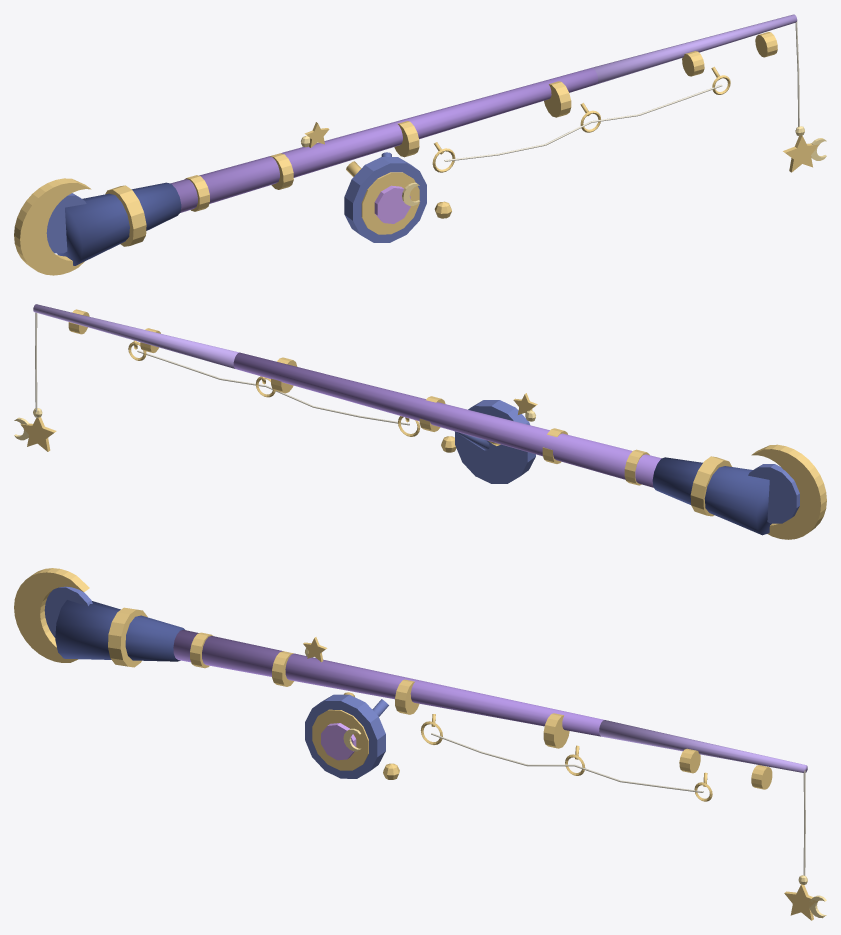
3 renders of one model, top to bottom at view 1: azimuth 30°, elevation 25°; view 2: azimuth 150°, elevation 25°; view 3: azimuth 330°, elevation 25°, orthographic. The views are drawn at different scales.
Visible parts, largest first — view 1: wizard_rod_clean_violet_body, wizard_rod_midnight_flared_handle, wizard_rod_elegant_gold_crescent_base, wizard_rod_reel_outer_midnight_shell, wizard_rod_soft_lavender_tip, wizard_rod_reel_gold_ring, wizard_rod_gold_rear_collar, wizard_rod_midnight_moon_back_disk, wizard_rod_reel_violet_gem_button, wizard_rod_clean_sagging_line, wizard_rod_thin_gold_wrap_4, wizard_rod_dangling_gold_star_charm (+2 smaller); view 2: wizard_rod_clean_violet_body, wizard_rod_midnight_flared_handle, wizard_rod_reel_outer_midnight_shell, wizard_rod_elegant_gold_crescent_base, wizard_rod_soft_lavender_tip, wizard_rod_midnight_moon_back_disk, wizard_rod_gold_rear_collar, wizard_rod_clean_sagging_line, wizard_rod_dangling_gold_star_charm; view 3: wizard_rod_clean_violet_body, wizard_rod_midnight_flared_handle, wizard_rod_elegant_gold_crescent_base, wizard_rod_soft_lavender_tip, wizard_rod_reel_outer_midnight_shell, wizard_rod_reel_gold_ring, wizard_rod_gold_rear_collar, wizard_rod_midnight_moon_back_disk, wizard_rod_reel_violet_gem_button, wizard_rod_clean_sagging_line, wizard_rod_thin_gold_wrap_4.
Boxes of the visible parts, x1,y1,x2,y2 form: wizard_rod_clean_violet_body: [170, 68, 597, 212]; wizard_rod_midnight_flared_handle: [57, 182, 181, 265]; wizard_rod_elegant_gold_crescent_base: [14, 178, 91, 275]; wizard_rod_reel_outer_midnight_shell: [344, 157, 426, 242]; wizard_rod_soft_lavender_tip: [591, 14, 797, 84]; wizard_rod_reel_gold_ring: [361, 172, 419, 234]; wizard_rod_gold_rear_collar: [105, 185, 146, 246]; wizard_rod_midnight_moon_back_disk: [46, 193, 86, 253]; wizard_rod_reel_violet_gem_button: [374, 185, 410, 223]; wizard_rod_clean_sagging_line: [444, 84, 722, 161]; wizard_rod_thin_gold_wrap_4: [544, 81, 571, 117]; wizard_rod_dangling_gold_star_charm: [783, 135, 819, 172]; wizard_rod_clean_violet_body: [233, 352, 661, 487]; wizard_rod_midnight_flared_handle: [652, 457, 771, 535]; wizard_rod_reel_outer_midnight_shell: [455, 400, 535, 483]; wizard_rod_elegant_gold_crescent_base: [751, 444, 826, 539]; wizard_rod_soft_lavender_tip: [33, 304, 239, 368]; wizard_rod_midnight_moon_back_disk: [748, 464, 799, 523]; wizard_rod_gold_rear_collar: [690, 456, 731, 516]; wizard_rod_clean_sagging_line: [137, 350, 409, 425]; wizard_rod_dangling_gold_star_charm: [20, 417, 56, 451]; wizard_rod_clean_violet_body: [173, 629, 603, 736]; wizard_rod_midnight_flared_handle: [55, 600, 184, 661]; wizard_rod_elegant_gold_crescent_base: [14, 568, 89, 662]; wizard_rod_soft_lavender_tip: [599, 720, 807, 772]; wizard_rod_reel_outer_midnight_shell: [305, 694, 385, 778]; wizard_rod_reel_gold_ring: [312, 709, 368, 770]; wizard_rod_gold_rear_collar: [108, 607, 147, 667]; wizard_rod_midnight_moon_back_disk: [44, 586, 92, 637]; wizard_rod_reel_violet_gem_button: [321, 723, 356, 760]; wizard_rod_clean_sagging_line: [431, 733, 703, 792]; wizard_rod_thin_gold_wrap_4: [543, 713, 569, 748].
Size of the model in its own units: 3.12 by 0.6465 by 0.3029.
